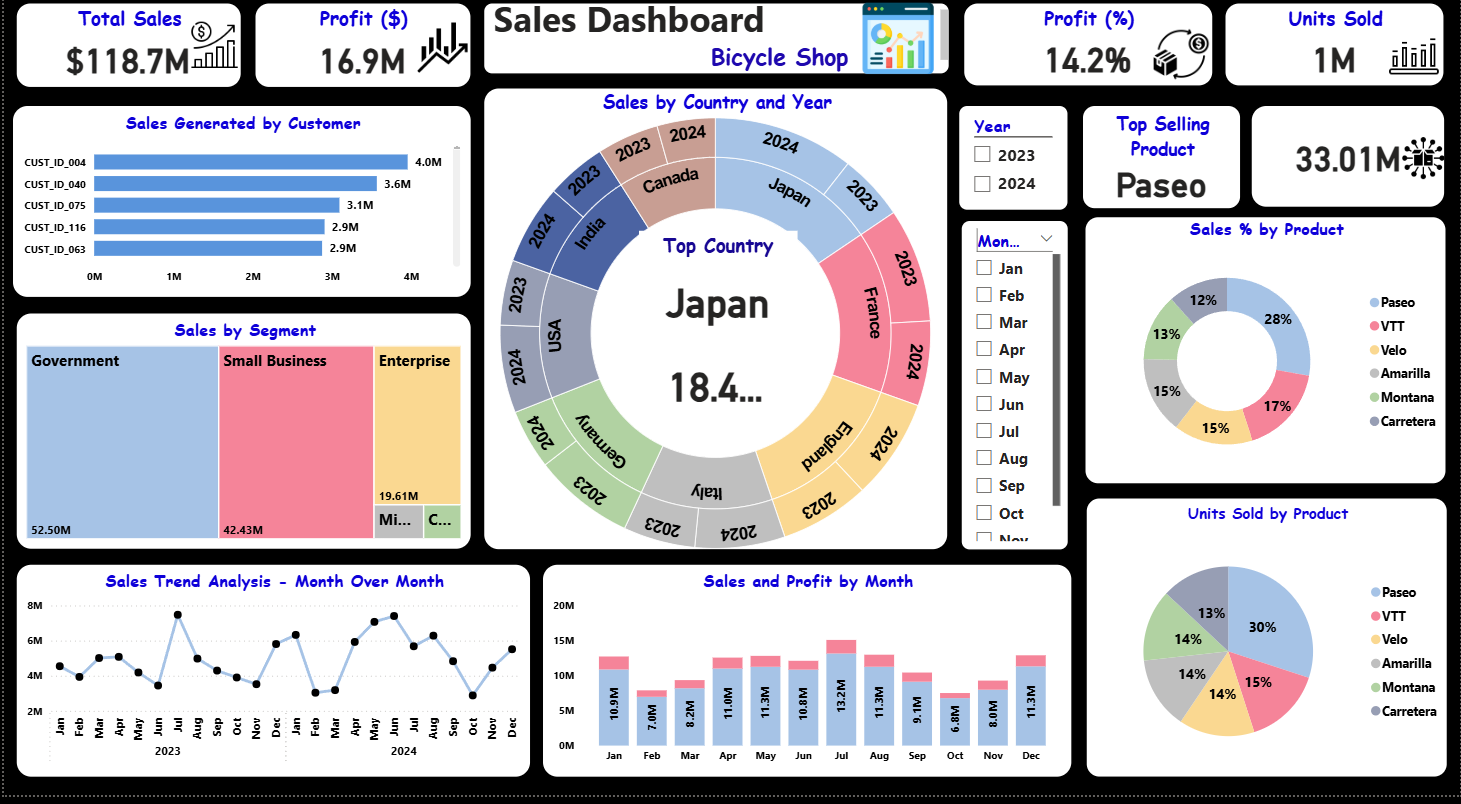

The dashboard page shown, as its layout file describes it:
{"tool":"powerbi","page":{"name":"Bicycle Shop","canvas":[1550,850],"ordinal":0},"visuals":[{"type":"card","title":"Total Sales","fields":{"Values":["Sum(Sales Data.Sales)"]},"box":[11.7,5,241.7,91.7],"z":0},{"type":"card","title":"Profit ($)","fields":{"Values":["Sum(Sales Data.Profit)"]},"box":[266.7,5,231.7,91.7],"z":1000},{"type":"card","title":"Units Sold","fields":{"Values":["Sum(Sales Data.Units Sold)"]},"box":[1298.7,5.3,235.5,90.8],"z":2000},{"type":"card","title":" Profit (%)","fields":{"Values":["Sales Data.Sum of Profit divided by Sum of Sales"]},"box":[1021.1,5.3,267.1,90.8],"z":3000},{"type":"card","title":"Top Selling Product","fields":{"Values":["Min(Sales Data.Product_Name)"]},"box":[1146.7,115,170,111.7],"z":4000},{"type":"donutChart","title":"Sales % by Product","fields":{"Y":["Sum(Sales Data.Sales)"],"Category":["Sales Data.Product_Name"]},"box":[1149.9,233.5,386.2,286.4],"z":5000},{"type":"pieChart","title":" Units Sold by Product","fields":{"Y":["Sum(Sales Data.Units Sold)"],"Category":["Sales Data.Product_Name"]},"box":[1151.4,531.6,386.2,299.6],"z":6000},{"type":"treemap","title":" Sales by Segment","fields":{"Group":["Sales Data.Segment"],"Values":["Sum(Sales Data.Sales)"]},"box":[11.7,335,486.7,253.3],"z":7000},{"type":"lineChart","title":"Sales Trend Analysis - Month Over Month","fields":{"Y":["Sum(Sales Data.Sales)"],"Category":["Sales Data.Date.Variation.Date Hierarchy.Year","Sales Data.Month Name"]},"box":[11.7,602.1,549.2,229.1],"z":8000},{"type":"slicer","fields":{"Values":["Sales Data.Year"]},"box":[1015,115,118.3,113.3],"z":9000},{"type":"slicer","fields":{"Values":["Sales Data.Month Name"]},"box":[1017.7,236.4,116,352.5],"z":10000},{"type":"clusteredBarChart","title":"Sales Generated by Customer","fields":{"Category":["Sales Data.Customer_ID"],"Y":["Sum(Sales Data.Sales)"]},"box":[8.3,115,490,206.7],"z":11000},{"type":"columnChart","title":" Sales and Profit by Month ","fields":{"Y":["Sum(Sales Data.Sales)","Sum(Sales Data.Profit)"],"Category":["Sales Data.Month Name"]},"box":[572.7,602.1,565.4,229.1],"z":12000},{"type":"Sunburst1445472000808","title":"Sales by Country and Year","fields":{"Nodes":["Sales Data.Country","Sales Data.Year"],"Values":["Sum(Sales Data.Sales)"]},"box":[509.6,98.4,496.4,490.5],"z":13000},{"type":"textbox","box":[509.2,5.3,497.4,77.6],"z":14000},{"type":"card","title":"Top Selling Product","fields":{"Values":["Sum(Sales Data.Sales)"]},"box":[1326.7,115,208.3,110],"z":15000},{"type":"card","title":"Top Country","fields":{"Values":["Min(Sales Data.Country)"]},"box":[672.6,262.9,168.9,117.5],"z":16000},{"type":"card","title":"Top Country","fields":{"Values":["Sum(Sales Data.Sales)"]},"box":[691.4,377.1,130,68.6],"z":17000},{"type":"image","box":[898.7,0,106.6,88.2],"z":18000},{"type":"image","box":[435,20,63.3,68.3],"z":19000},{"type":"image","box":[1217.1,25.7,71.4,71.4],"z":20000},{"type":"image","box":[192.9,5.7,62.9,91.4],"z":21000},{"type":"image","box":[1463.2,28.9,75,68.4],"z":22000},{"type":"image","box":[1484.3,125.7,54.3,92.9],"z":23000}]}

Visuals, with their boxes in screenshot pixels (x1, y1, x2, y2), scaled from the page's 1550x850 canvas onto the 1461x804 screenshot:
"Total Sales" card: {"x1": 11, "y1": 5, "x2": 239, "y2": 91}
"Profit ($)" card: {"x1": 251, "y1": 5, "x2": 470, "y2": 91}
"Units Sold" card: {"x1": 1224, "y1": 5, "x2": 1446, "y2": 91}
" Profit (%)" card: {"x1": 962, "y1": 5, "x2": 1214, "y2": 91}
"Top Selling Product" card: {"x1": 1081, "y1": 109, "x2": 1241, "y2": 214}
"Sales % by Product" donutChart: {"x1": 1084, "y1": 221, "x2": 1448, "y2": 492}
" Units Sold by Product" pieChart: {"x1": 1085, "y1": 503, "x2": 1449, "y2": 786}
" Sales by Segment" treemap: {"x1": 11, "y1": 317, "x2": 470, "y2": 556}
"Sales Trend Analysis - Month Over Month" lineChart: {"x1": 11, "y1": 570, "x2": 529, "y2": 786}
slicer - Sales Data.Year: {"x1": 957, "y1": 109, "x2": 1068, "y2": 216}
slicer - Sales Data.Month Name: {"x1": 959, "y1": 224, "x2": 1069, "y2": 557}
"Sales Generated by Customer" clusteredBarChart: {"x1": 8, "y1": 109, "x2": 470, "y2": 304}
" Sales and Profit by Month " columnChart: {"x1": 540, "y1": 570, "x2": 1073, "y2": 786}
"Sales by Country and Year" Sunburst1445472000808: {"x1": 480, "y1": 93, "x2": 948, "y2": 557}
textbox: {"x1": 480, "y1": 5, "x2": 949, "y2": 78}
"Top Selling Product" card: {"x1": 1251, "y1": 109, "x2": 1447, "y2": 213}
"Top Country" card: {"x1": 634, "y1": 249, "x2": 793, "y2": 360}
"Top Country" card: {"x1": 652, "y1": 357, "x2": 774, "y2": 422}
image: {"x1": 847, "y1": 0, "x2": 948, "y2": 83}
image: {"x1": 410, "y1": 19, "x2": 470, "y2": 84}
image: {"x1": 1147, "y1": 24, "x2": 1215, "y2": 92}
image: {"x1": 182, "y1": 5, "x2": 241, "y2": 92}
image: {"x1": 1379, "y1": 27, "x2": 1450, "y2": 92}
image: {"x1": 1399, "y1": 119, "x2": 1450, "y2": 207}
